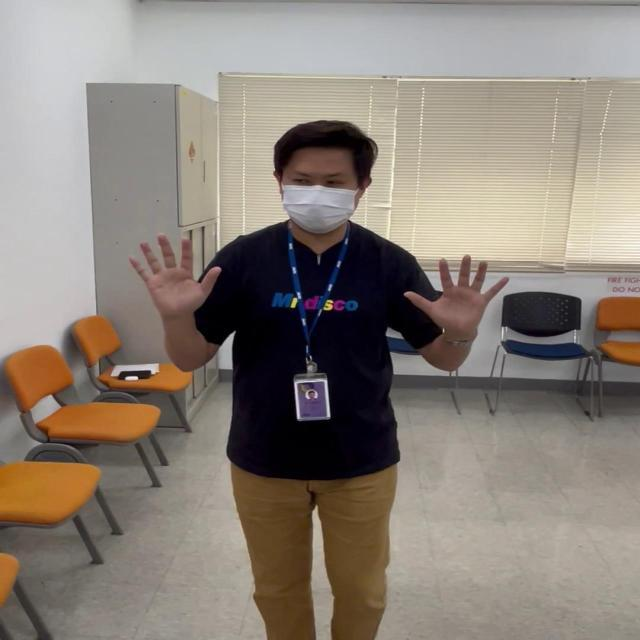bare_hand: (402, 252, 508, 334), (129, 230, 220, 310)
